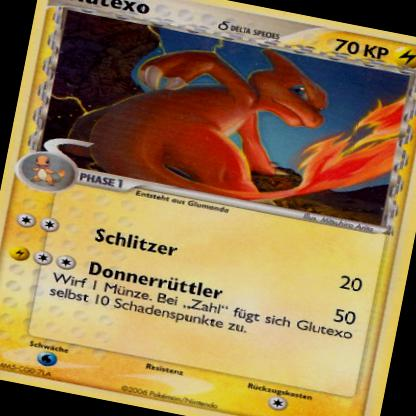Charmeleon: (77, 19, 406, 221)
